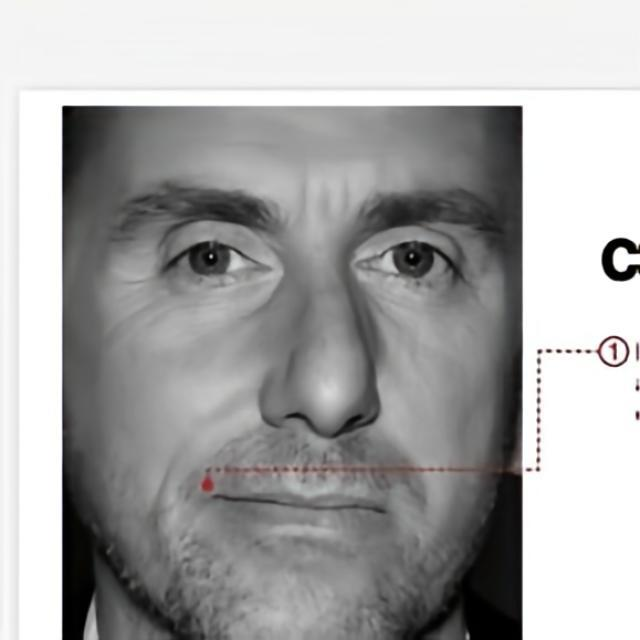content: (63, 108, 522, 638)
